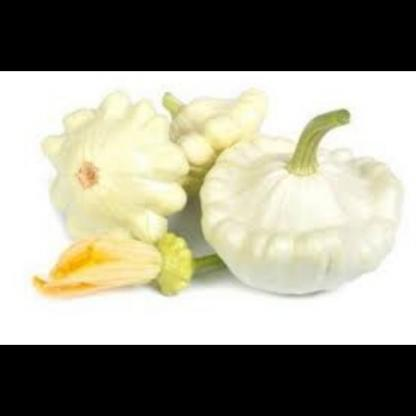squash-patisson: (202, 106, 404, 296), (36, 89, 194, 250), (151, 82, 275, 186)
